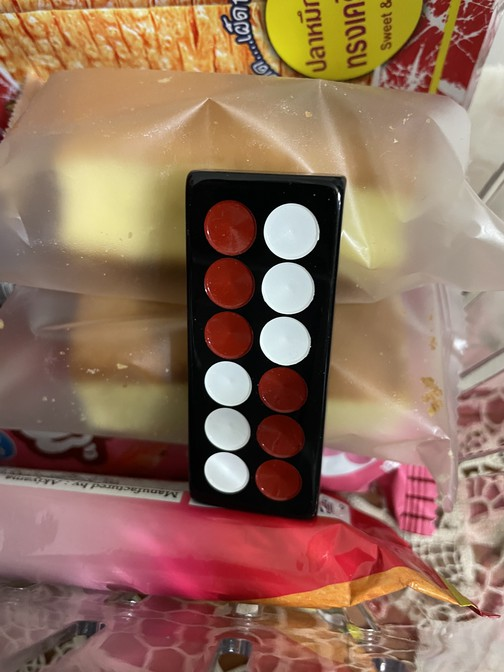heaven: (184, 174, 342, 522)
